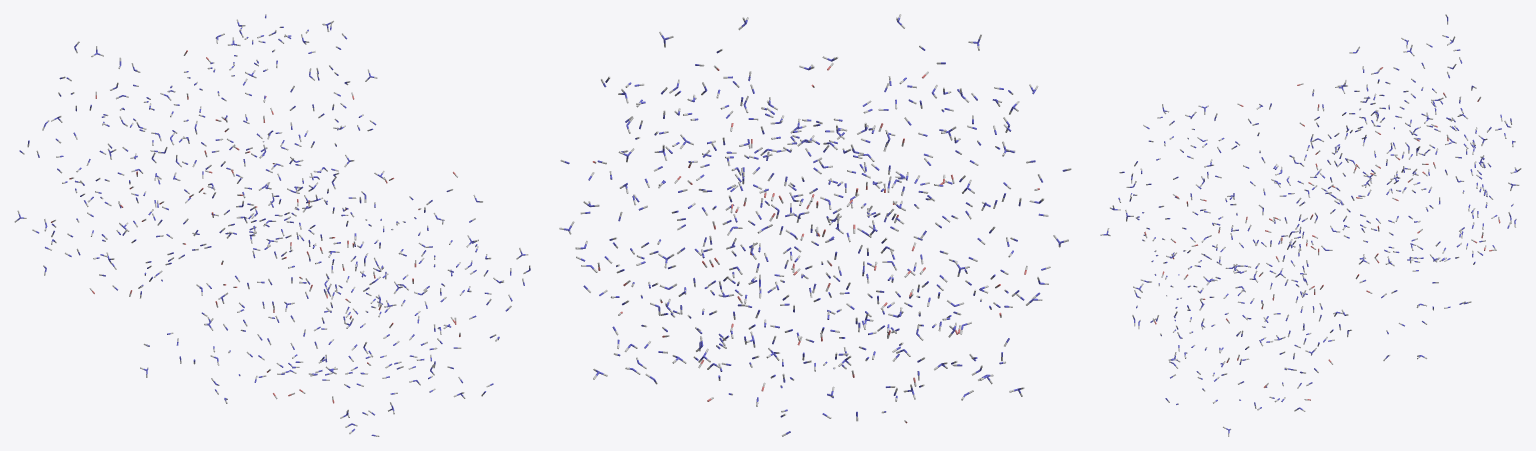
Rendered from 1gfl__sticks__default__H.glb.
3 renders of one model, left to right at view 1: azimuth 30°, elevation 25°; view 2: azimuth 150°, elevation 25°; view 3: azimuth 270°, elevation 25°, orthographic. The views are drawn at different scales.
Parts seen in each view (by area): view 1: Renderer Node; view 2: Renderer Node; view 3: Renderer Node.
Boxes of the visible parts, x1=… form: Renderer Node: x1=14, y1=14, x2=530, y2=436; Renderer Node: x1=559, y1=14, x2=1071, y2=436; Renderer Node: x1=1100, y1=14, x2=1521, y2=436.
Bounding box in the file's own units: 62.59 × 52.19 × 61.69.
